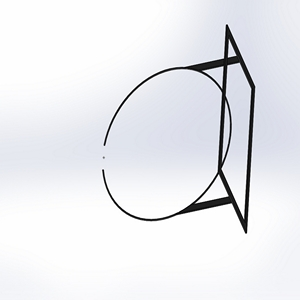circle: (100, 20, 257, 235)
